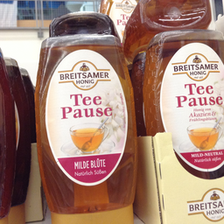honey: (35, 35, 142, 224), (148, 30, 224, 187)
